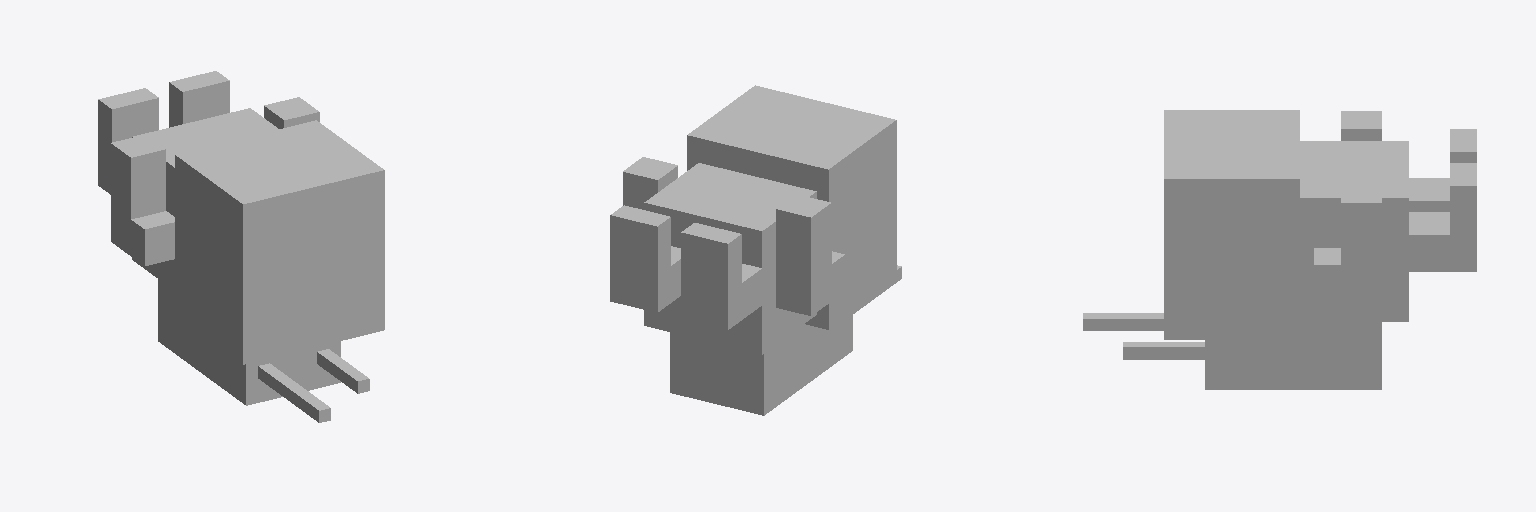
File: spaceman.obj
3 views of the same model, side by side, from view 1: azimuth 30°, elevation 25°; view 2: azimuth 150°, elevation 25°; view 3: azimuth 270°, elevation 25° (orthographic).
Bounding box in the file's own units: 16 × 18 × 29.